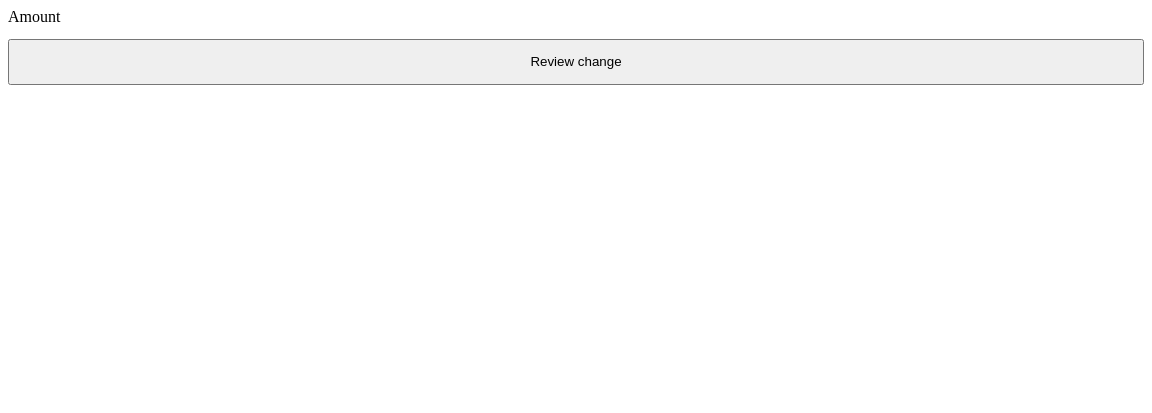
Test: compact fund swap review › requires a separate confirmation and prevents duplicate pending submissions
Later steps or results of the test are not shown.
Click the button "Review change" at (576, 62), box [8,39,1144,85]
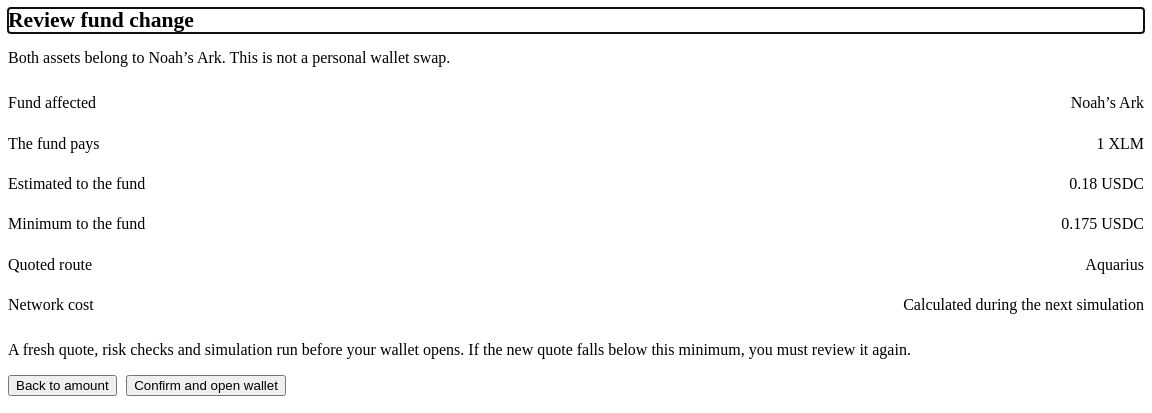
Double-click the button with test id "rebalance-confirm-button" at (206, 386), box [126,375,286,396]
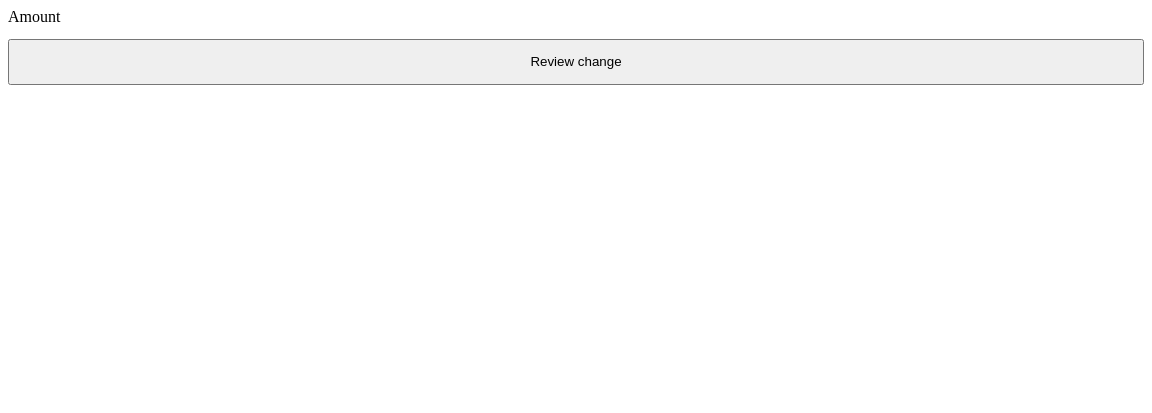
Result: the element with test id "fund-swap-review" is gone
